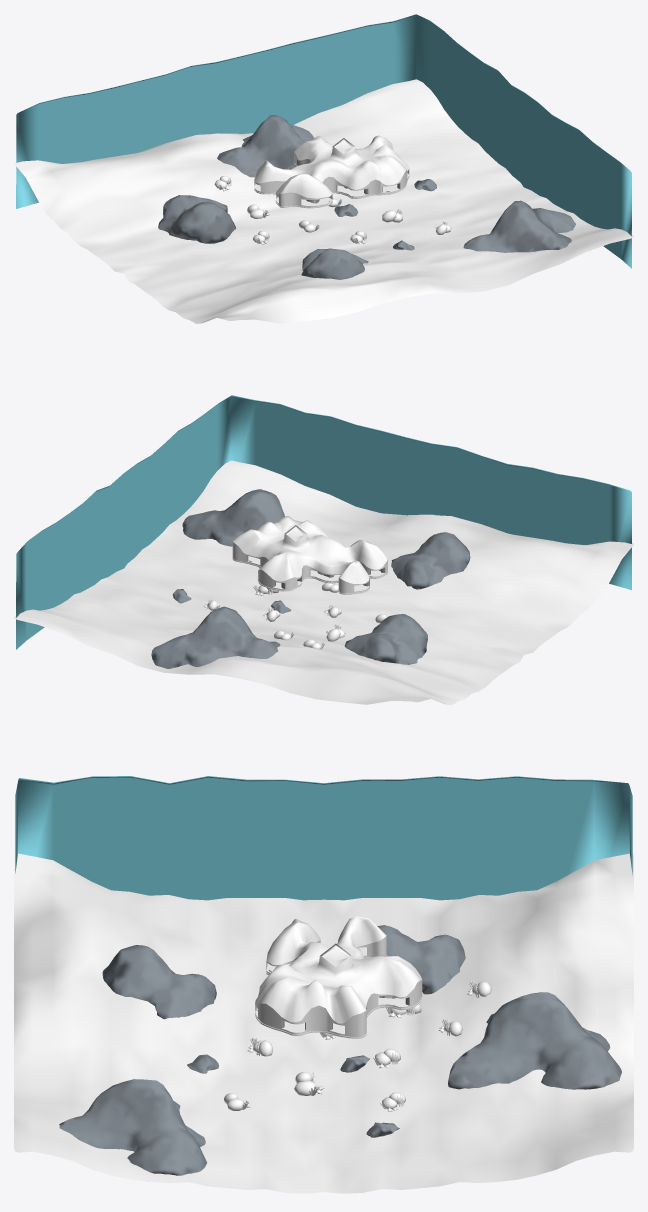
3 renders of one model, top to bottom at view 1: azimuth 30°, elevation 25°; view 2: azimuth 150°, elevation 25°; view 3: azimuth 270°, elevation 25°, orthographic. The views are drawn at different scales.
Visible parts, largest first — view 1: Arena, Agua, Rocas, Techo, Locales, Corales, Suelo; view 2: Arena, Agua, Rocas, Techo, Locales, Corales; view 3: Arena, Agua, Rocas, Techo, Corales, Locales, Borde, Suelo.
Boxes of the visible parts, box(x1,y1,x2,y2) form: Arena: box(14, 79, 633, 323); Agua: box(16, 14, 631, 268); Rocas: box(158, 115, 575, 279); Techo: box(254, 135, 409, 198); Locales: box(254, 141, 409, 205); Corales: box(214, 176, 451, 244); Suelo: box(254, 165, 409, 205); Arena: box(14, 460, 633, 705); Agua: box(16, 395, 631, 649); Rocas: box(151, 489, 470, 668); Techo: box(232, 516, 387, 584); Locales: box(232, 528, 387, 592); Corales: box(203, 567, 395, 649); Arena: box(14, 853, 633, 1193); Agua: box(15, 776, 632, 900); Rocas: box(59, 925, 621, 1175); Techo: box(255, 916, 422, 1023); Corales: box(224, 981, 491, 1111); Locales: box(255, 936, 422, 1035); Borde: box(255, 954, 422, 1038); Suelo: box(255, 947, 408, 1034).
Size of the model in its own units: 6.91 by 1.66 by 6.45.
